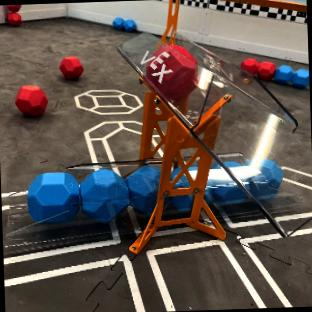V5_BLUE: (28, 173, 79, 222), (81, 169, 128, 221), (127, 166, 160, 211), (275, 66, 309, 88), (112, 17, 135, 31)
V5_RED: (147, 44, 196, 100), (16, 85, 47, 117), (61, 57, 82, 79), (7, 5, 22, 25), (258, 62, 275, 78), (242, 59, 258, 72)
